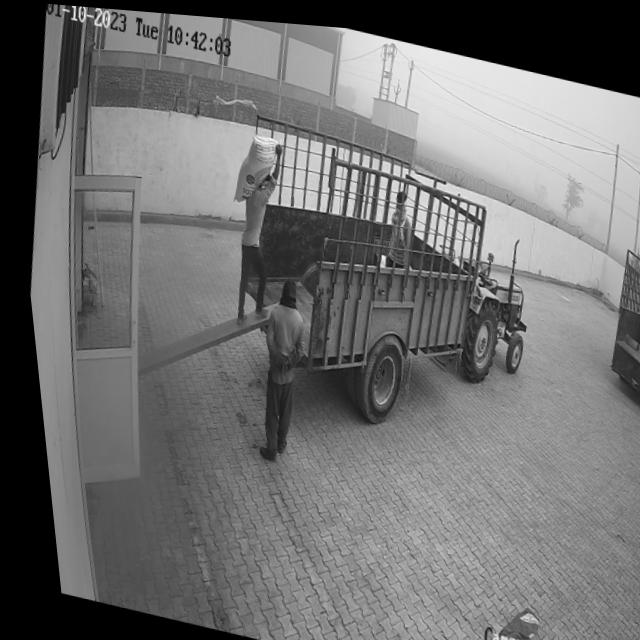sack: (224, 126, 283, 207)
